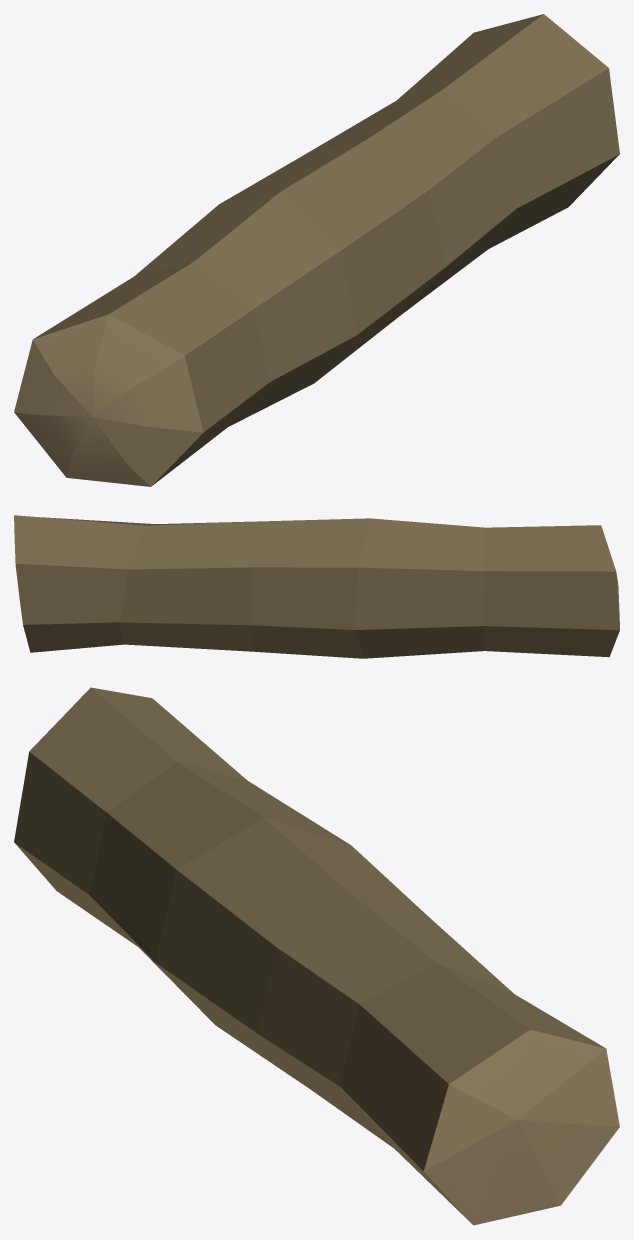
File: Camp_log.fbx
3 renders of one model, top to bottom at view 1: azimuth 30°, elevation 25°; view 2: azimuth 150°, elevation 25°; view 3: azimuth 270°, elevation 25°, orthographic. The views are drawn at different scales.
Parts seen in each view (by area): view 1: pasted__pCylinder1; view 2: pasted__pCylinder1; view 3: pasted__pCylinder1.
Part boxes in pixels (x1=…): pasted__pCylinder1: x1=14, y1=14, x2=619, y2=486; pasted__pCylinder1: x1=14, y1=515, x2=619, y2=658; pasted__pCylinder1: x1=14, y1=687, x2=619, y2=1225.
Bounding box in the file's own units: 3.8 × 0.9025 × 2.47.
